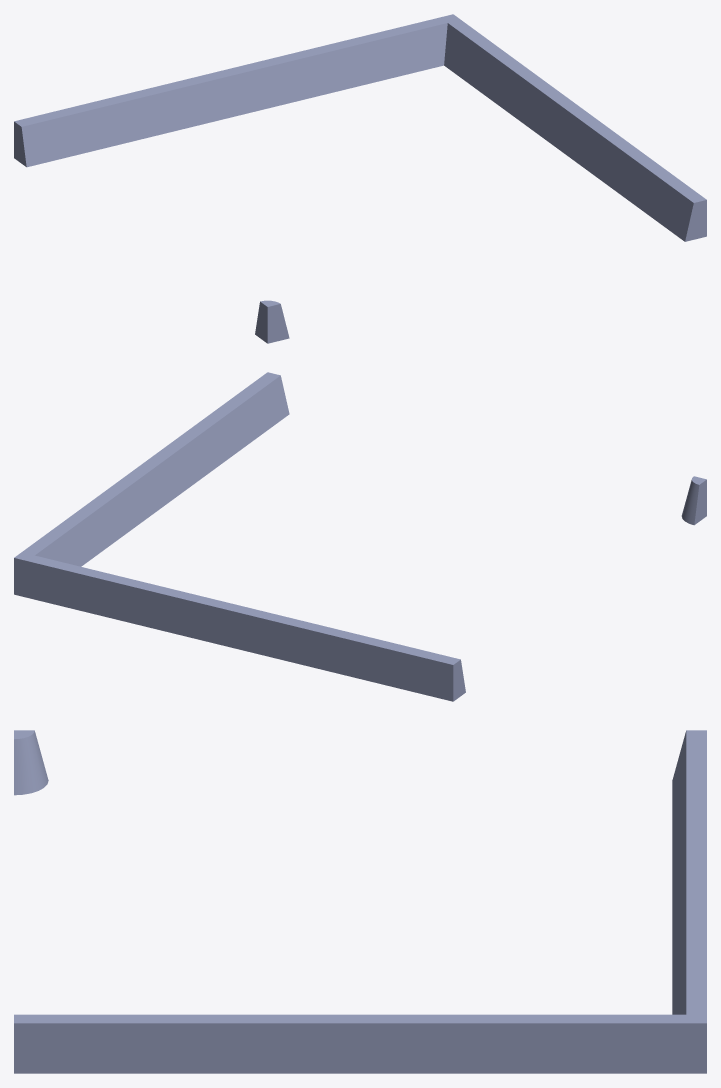
The model's file is road-bend-square-barrier.glb.
3 views of the same model, one above another, from view 1: azimuth 30°, elevation 25°; view 2: azimuth 150°, elevation 25°; view 3: azimuth 270°, elevation 25° (orthographic). The views are drawn at different scales.
Visible parts, largest first — view 1: road-bend-square-barrier; view 2: road-bend-square-barrier; view 3: road-bend-square-barrier.
Part boxes in pixels (bbox=[...]): road-bend-square-barrier: bbox=[14, 14, 706, 343]; road-bend-square-barrier: bbox=[14, 372, 706, 701]; road-bend-square-barrier: bbox=[14, 730, 706, 1073].
Bounding box in the file's own units: 1 × 0.08 × 1.
Materials: 1 (1 with a texture image).
